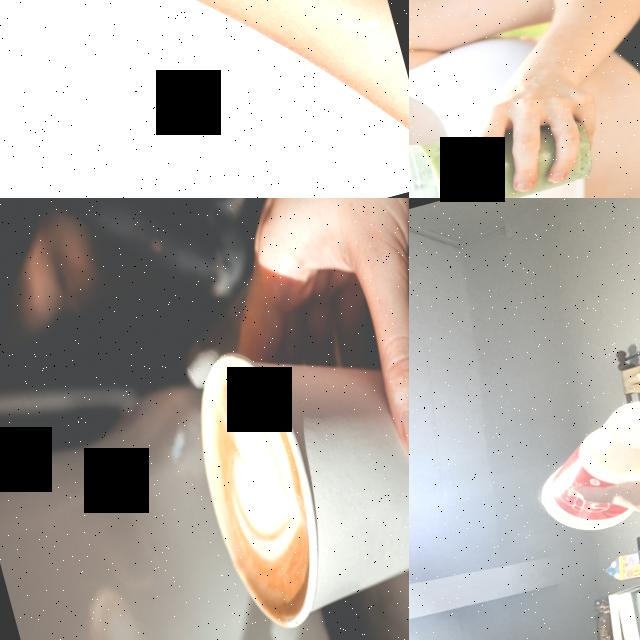cup: (170, 296, 409, 640), (409, 91, 602, 198), (521, 391, 640, 541)
